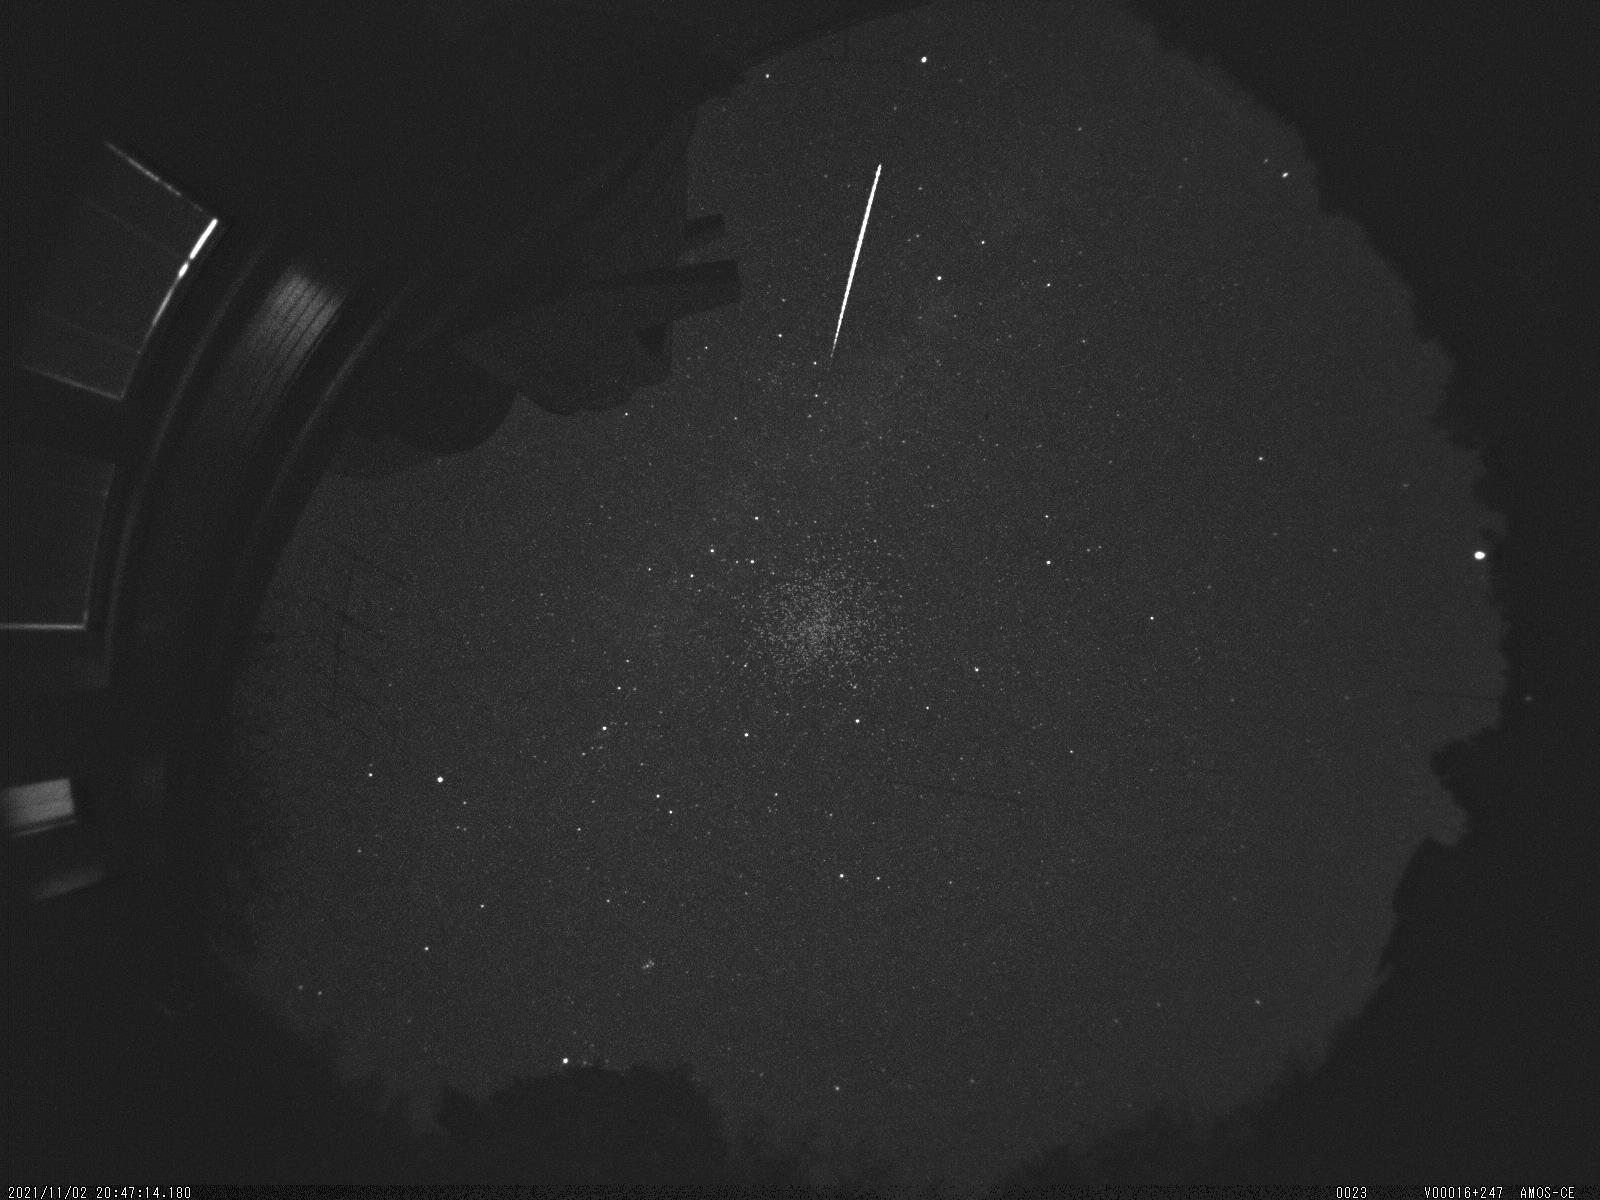Meteor: (816, 153, 888, 373)
